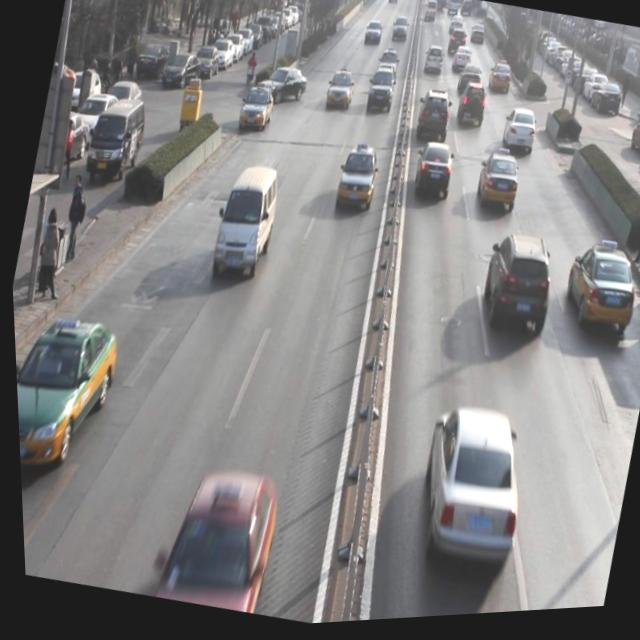car: (399, 402, 538, 584), (11, 312, 121, 478), (471, 229, 560, 347), (552, 242, 640, 350), (329, 144, 382, 221), (469, 152, 523, 221), (407, 141, 457, 209), (411, 91, 455, 151), (233, 83, 278, 139), (257, 65, 309, 112), (498, 110, 539, 163), (452, 84, 490, 139), (319, 69, 358, 120), (361, 73, 397, 122), (484, 62, 514, 103), (419, 45, 447, 86), (373, 52, 401, 88)
truck: (203, 162, 285, 291)
